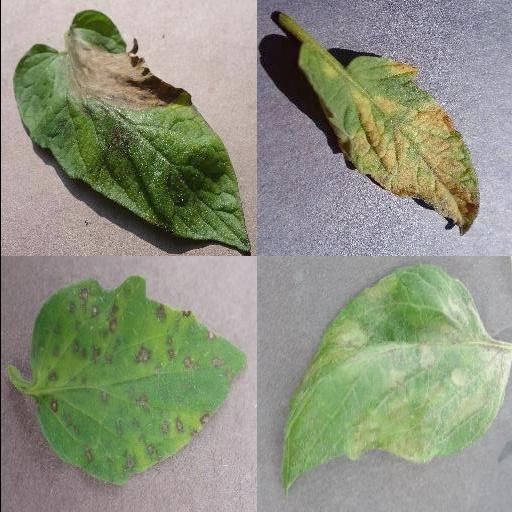Late Blight: (13, 10, 251, 252), (273, 260, 512, 496)
Leaf Mold: (296, 45, 480, 238)
Septoria: (27, 278, 247, 484)
